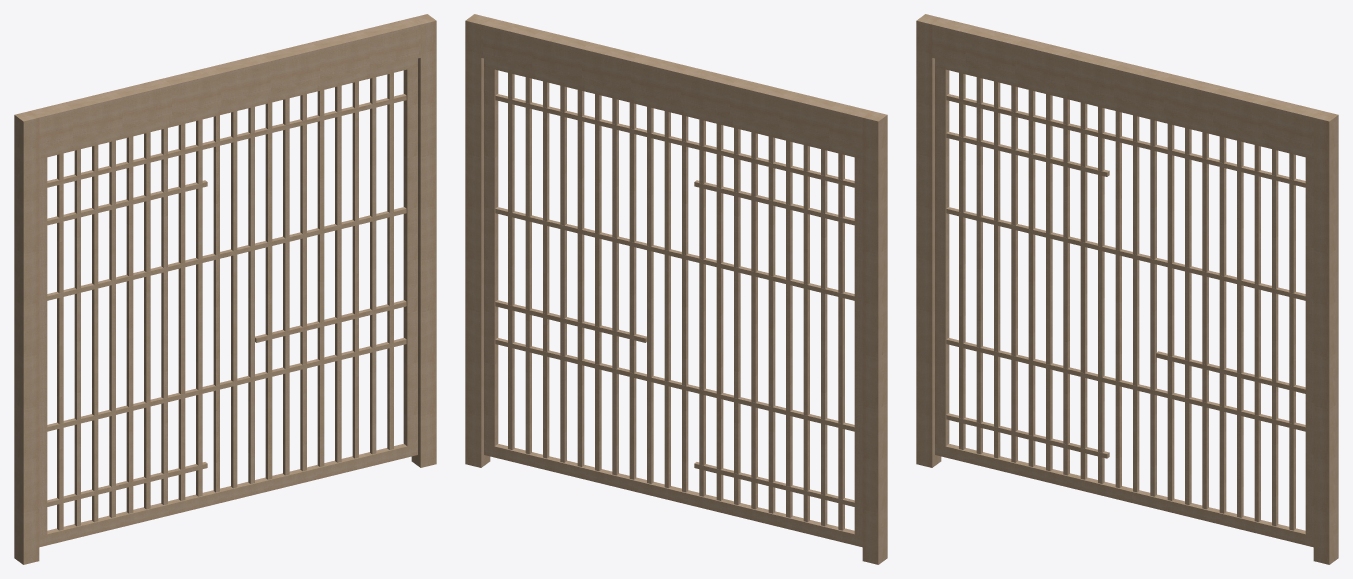
The model's file is es-kyomatiya-oboro_h2000-w1950_kareiro.fbx.
3 renders of one model, left to right at view 1: azimuth 30°, elevation 25°; view 2: azimuth 150°, elevation 25°; view 3: azimuth 330°, elevation 25°, orthographic.
Visible parts, largest first — view 1: es-kyomatiya-oboro_h2000-w1950_kakicha.002; view 2: es-kyomatiya-oboro_h2000-w1950_kakicha.002; view 3: es-kyomatiya-oboro_h2000-w1950_kakicha.002.
Boxes of the visible parts, x1,y1,x2,y2 form: es-kyomatiya-oboro_h2000-w1950_kakicha.002: [14, 14, 436, 564]; es-kyomatiya-oboro_h2000-w1950_kakicha.002: [465, 14, 887, 564]; es-kyomatiya-oboro_h2000-w1950_kakicha.002: [916, 14, 1338, 564].
Size of the model in its own units: 195 by 200 by 7.5.
2 materials, 2 textured.
